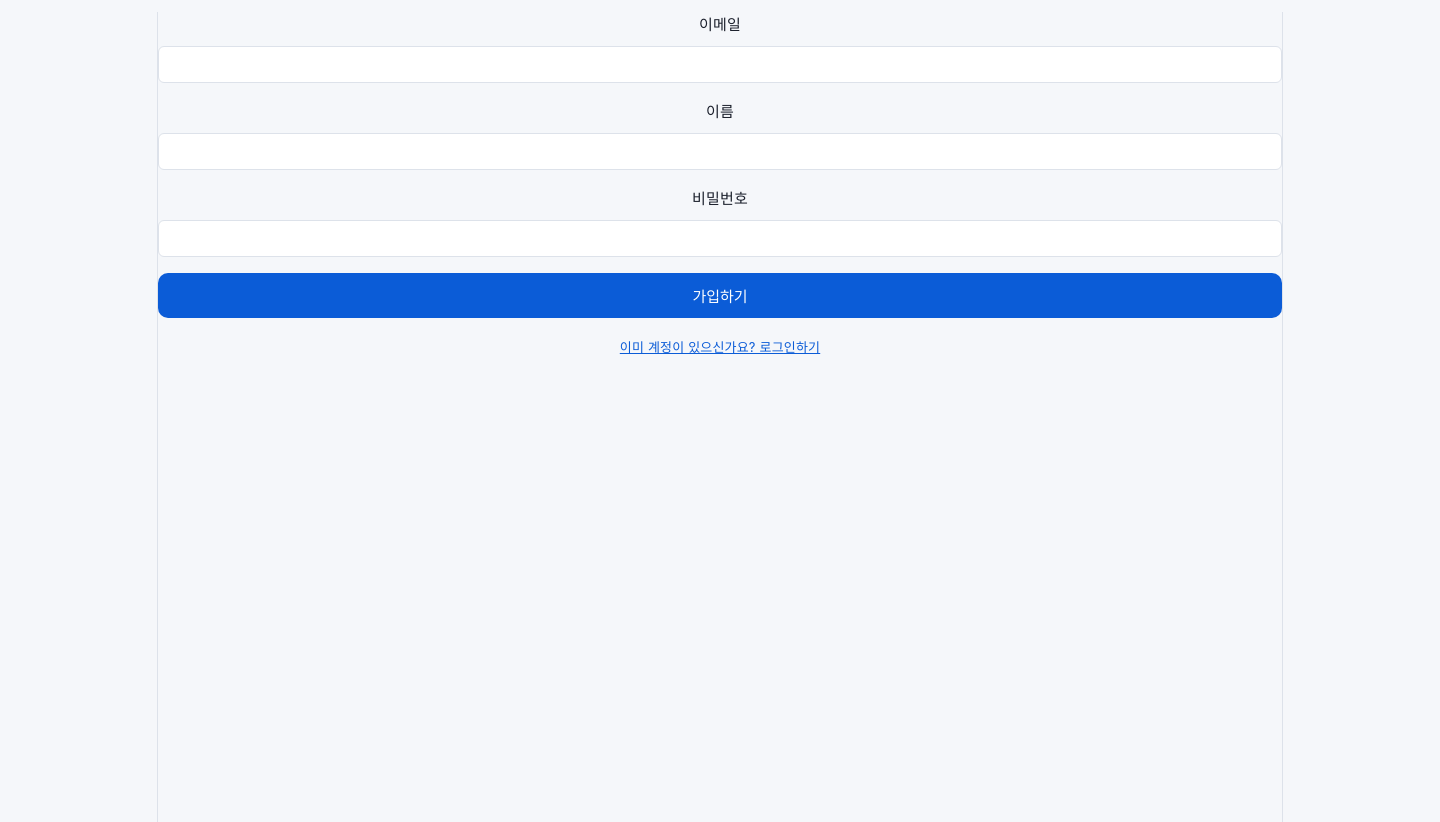
SignupForm › signup이 실패하면 에러 메시지를 화면에 표시한다
In the field labelled "이메일": (720, 65) x1=158 y1=46 x2=1282 y2=83, type "a@b.com"
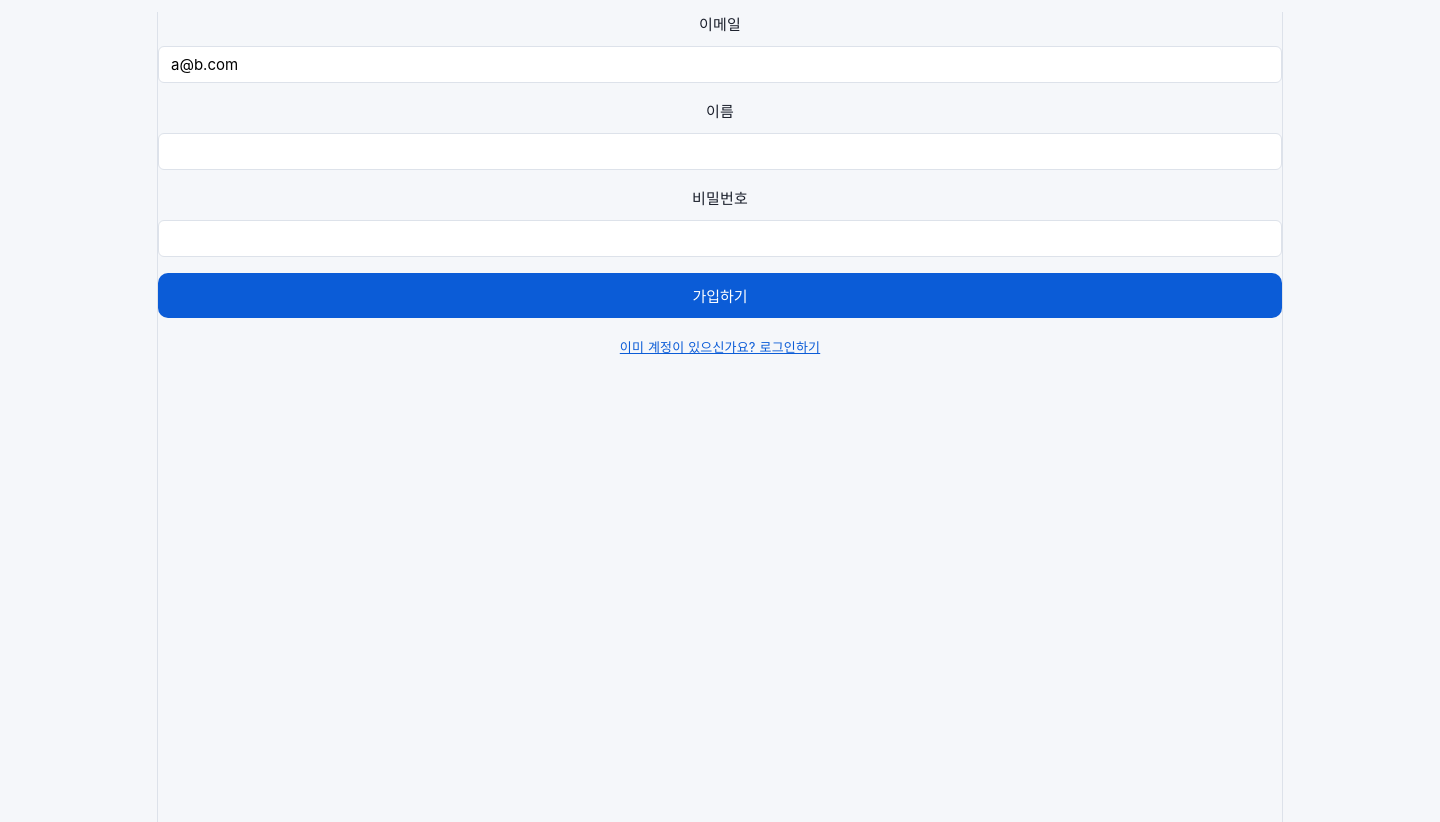
In the password field labelled "비밀번호": (720, 239) x1=158 y1=220 x2=1282 y2=257, type "password1"
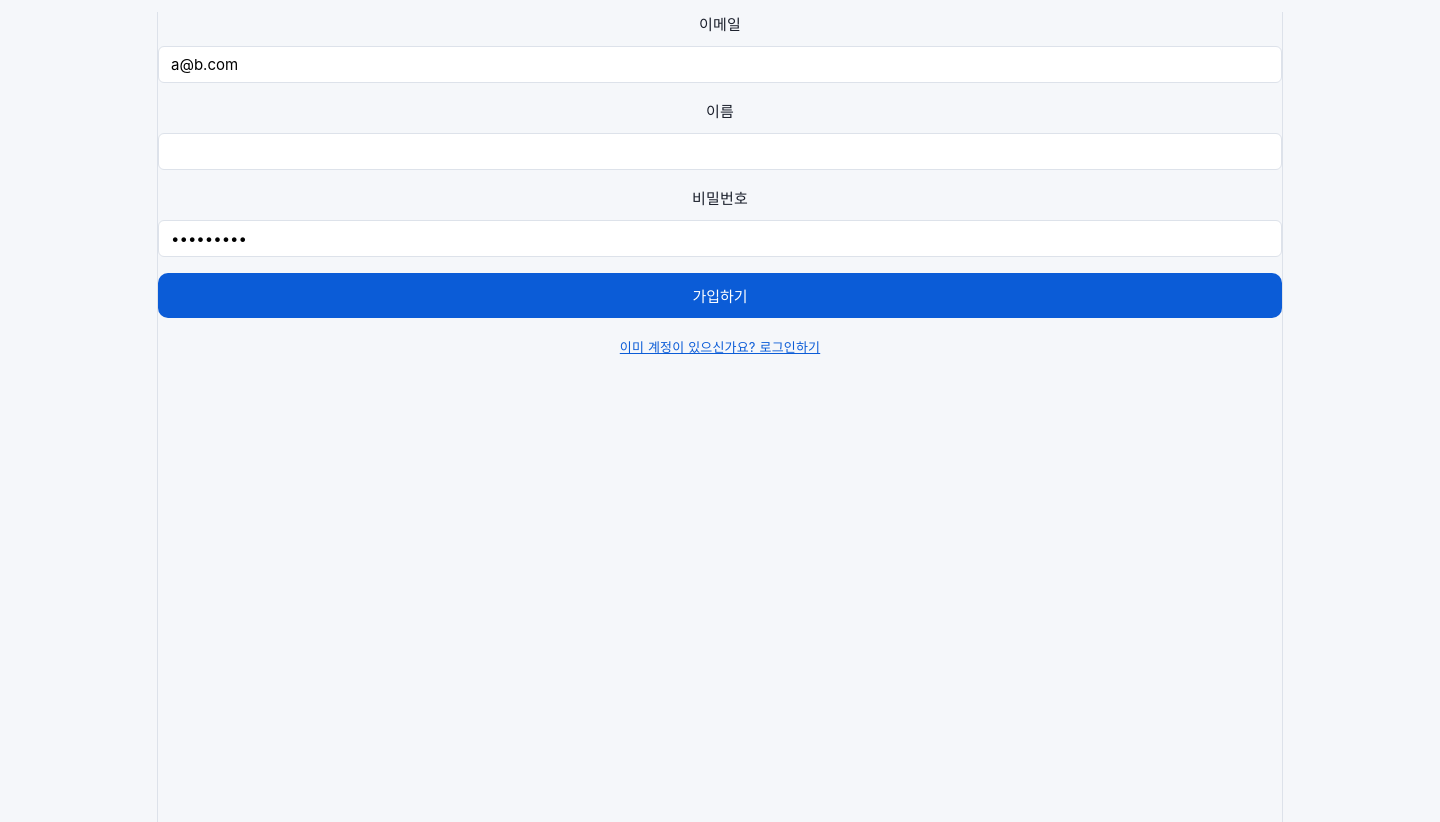
In the field labelled "이름": (720, 152) x1=158 y1=133 x2=1282 y2=170, type "홍길동"
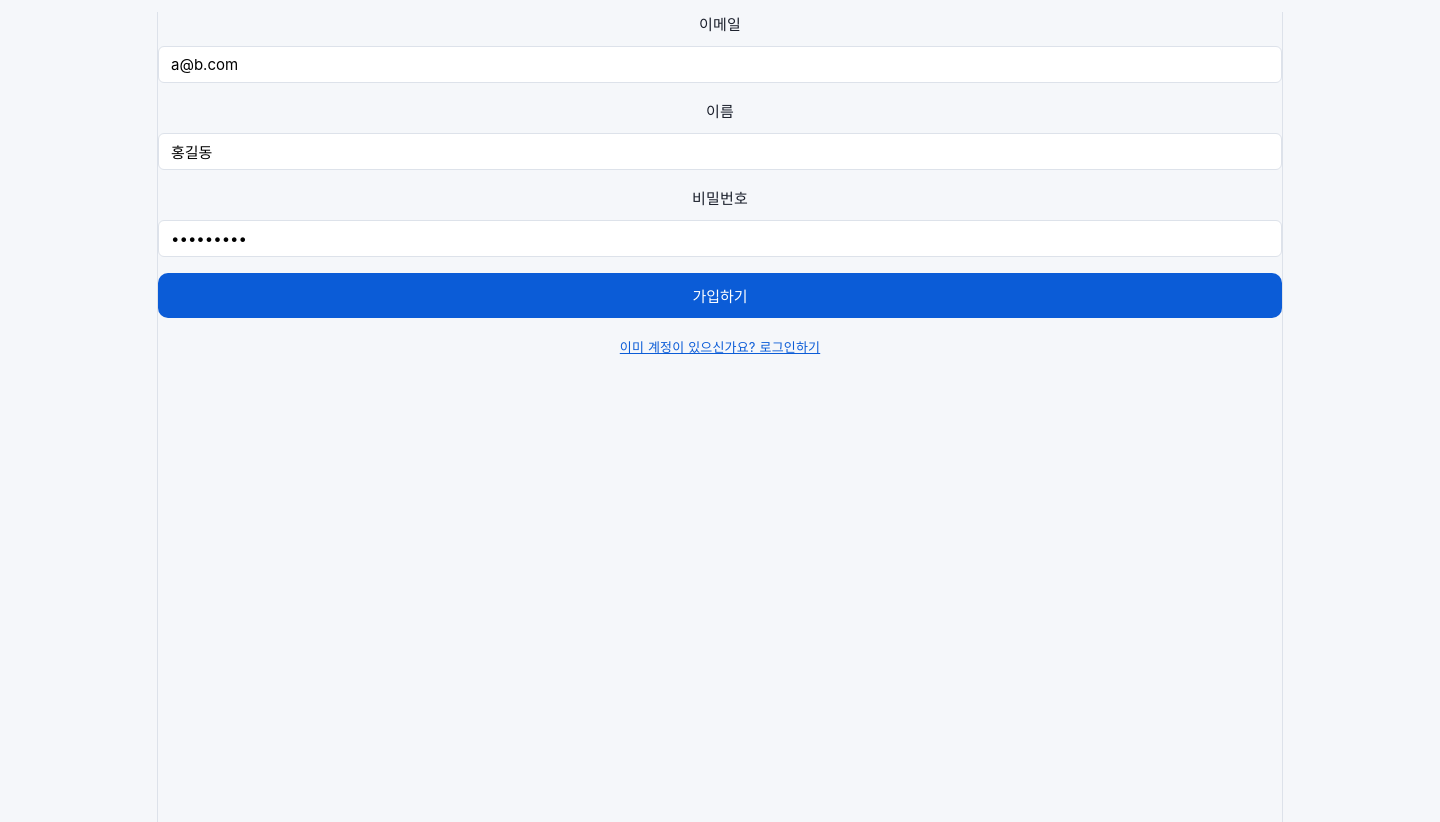
Click the button "가입하기": (720, 296) x1=158 y1=273 x2=1282 y2=318
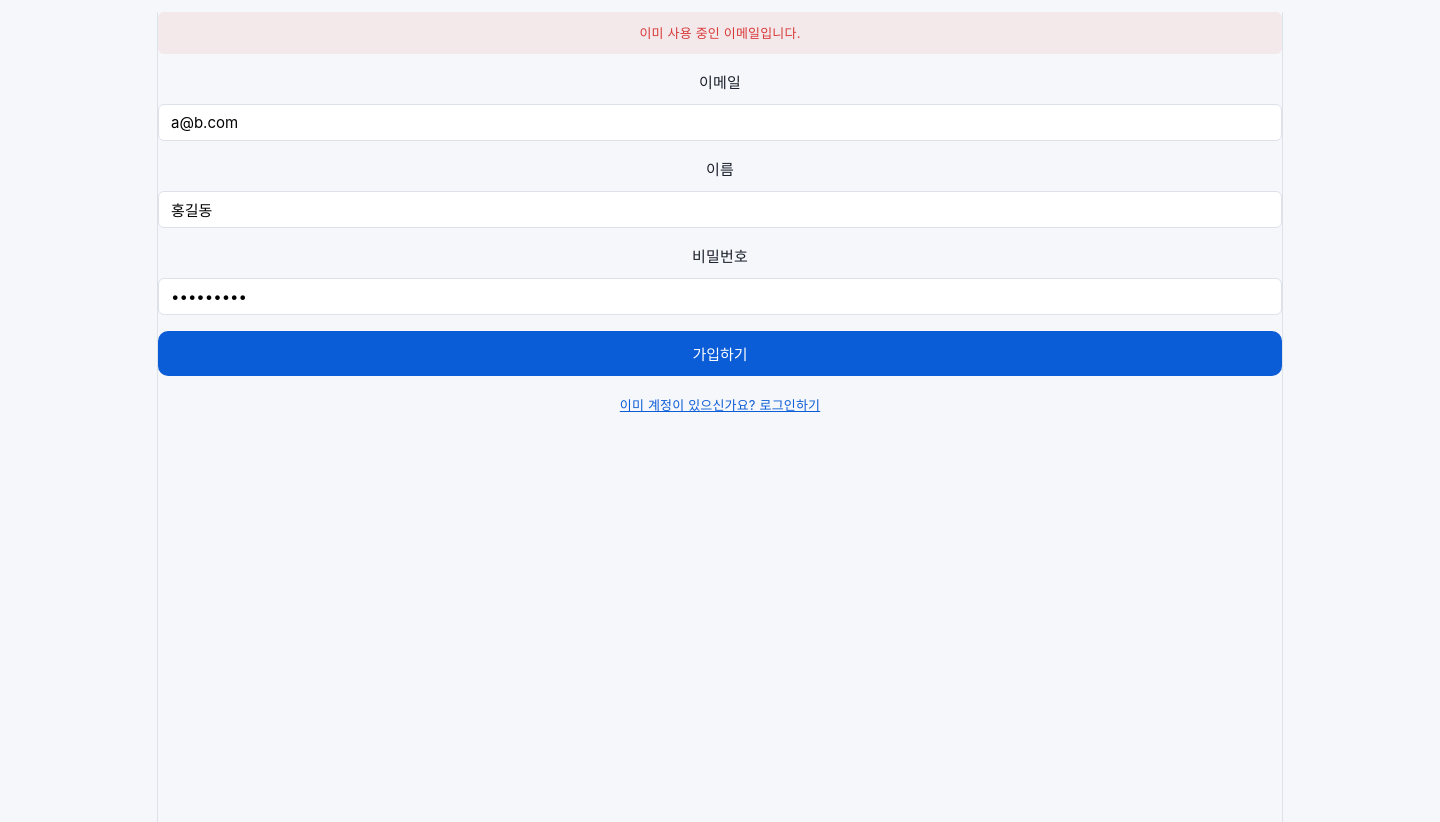
Check: the text "이미 사용 중인 이메일입니다." is shown, box x1=158 y1=12 x2=1282 y2=54
